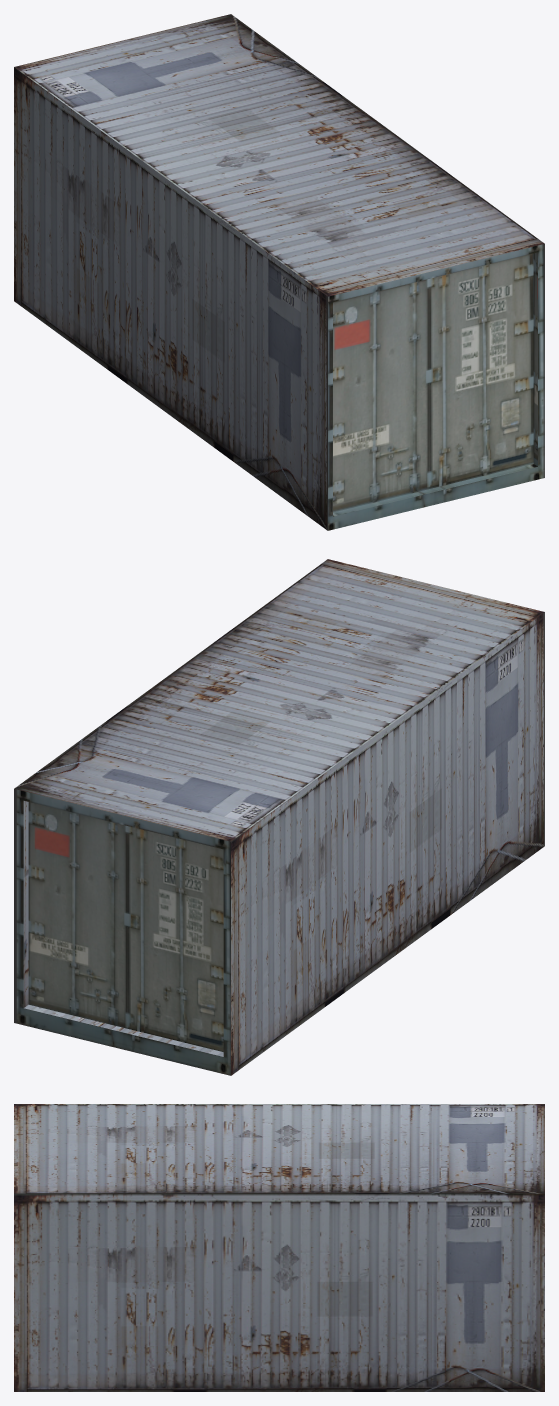
Rendered from Conatiner_1.fbx.
The picture shows the model from 3 angles, top to bottom: view 1: azimuth 30°, elevation 25°; view 2: azimuth 150°, elevation 25°; view 3: azimuth 270°, elevation 25°; orthographic projection. The views are drawn at different scales.
Visible parts, largest first — view 1: Model; view 2: Model; view 3: Model.
Part boxes in pixels (x1,y1,x2,y2): Model: [14, 14, 544, 530]; Model: [14, 559, 544, 1075]; Model: [14, 1104, 544, 1391].
Size of the model in its own units: 320 by 329 by 800.
